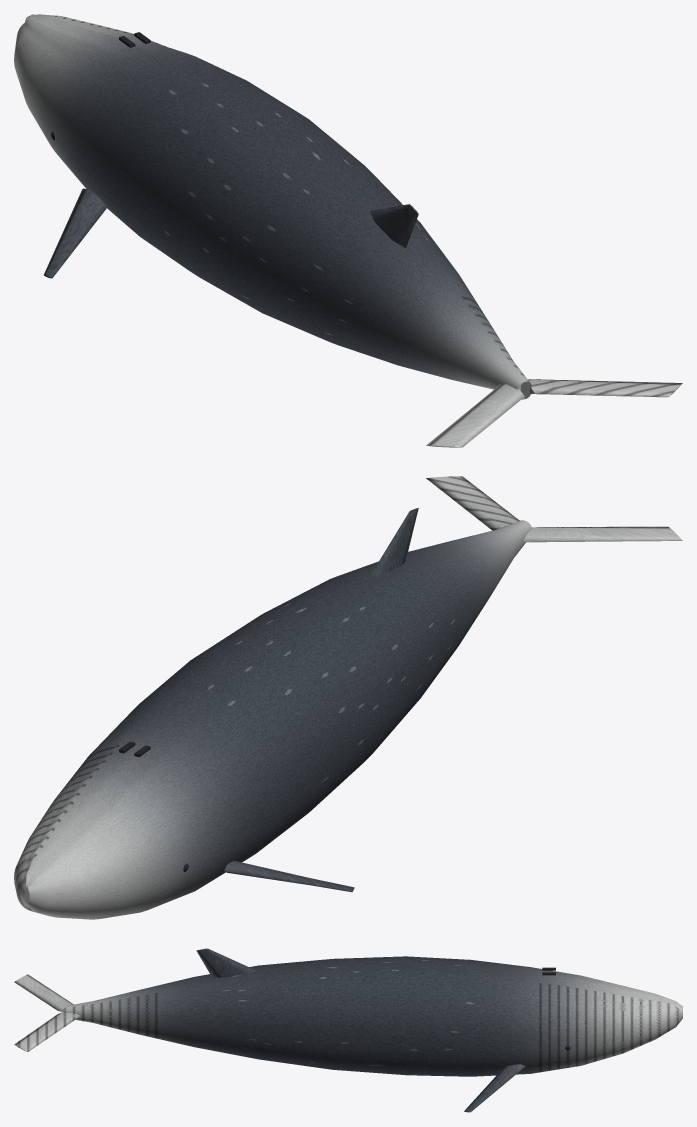
The model's file is whale.glb.
3 views of the same model, one above another, from view 1: azimuth 30°, elevation 25°; view 2: azimuth 150°, elevation 25°; view 3: azimuth 270°, elevation 25° (orthographic). The views are drawn at different scales.
Parts seen in each view (by area): view 1: whale; view 2: whale; view 3: whale.
Part boxes in pixels (x1,y1,x2,y2): whale: (14, 14, 682, 447); whale: (14, 476, 682, 919); whale: (14, 948, 682, 1112).
Size of the model in its own units: 4.8 by 2.91 by 14.5.
3 materials, 1 textured.
